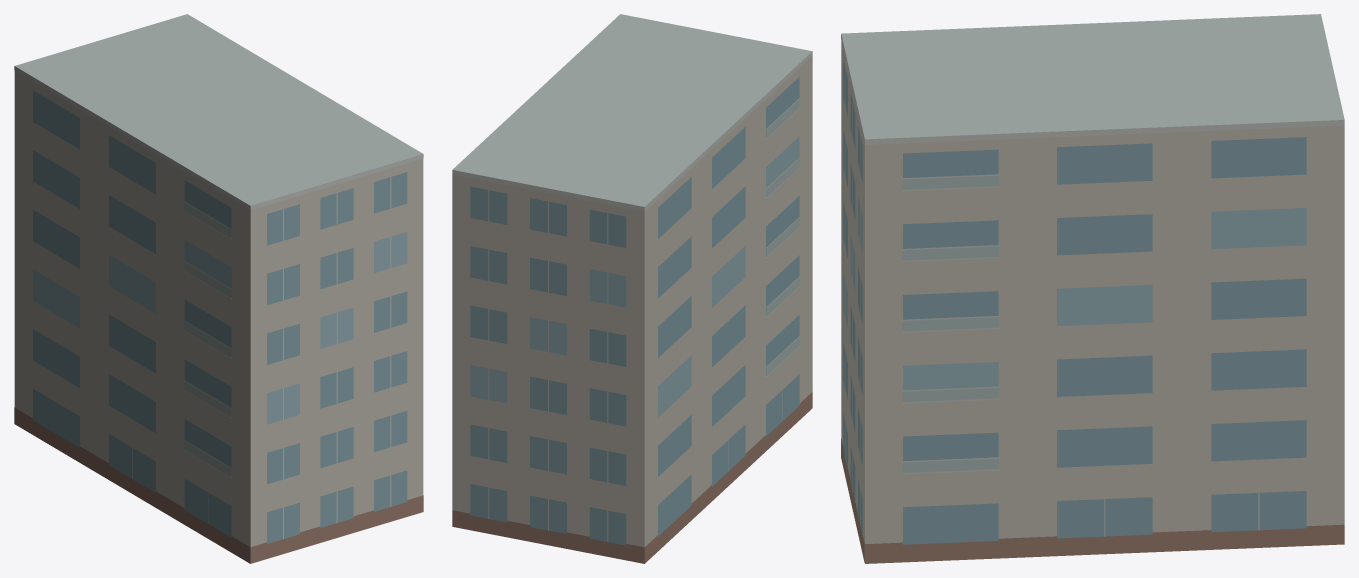
The model's file is survey-upis-32638630.glb.
3 views of the same model, side by side, from view 1: azimuth 30°, elevation 25°; view 2: azimuth 150°, elevation 25°; view 3: azimuth 270°, elevation 25° (orthographic). The views are drawn at different scales.
Parts seen in each view (by area): view 1: survey-upis-32638630.tmp; view 2: survey-upis-32638630.tmp; view 3: survey-upis-32638630.tmp.
Part boxes in pixels (left/top/right/bottom): survey-upis-32638630.tmp: left=14, top=14, right=423, bottom=563; survey-upis-32638630.tmp: left=452, top=14, right=812, bottom=563; survey-upis-32638630.tmp: left=841, top=14, right=1344, bottom=563.
Size of the model in its own units: 11.85 by 18.7 by 20.11.
